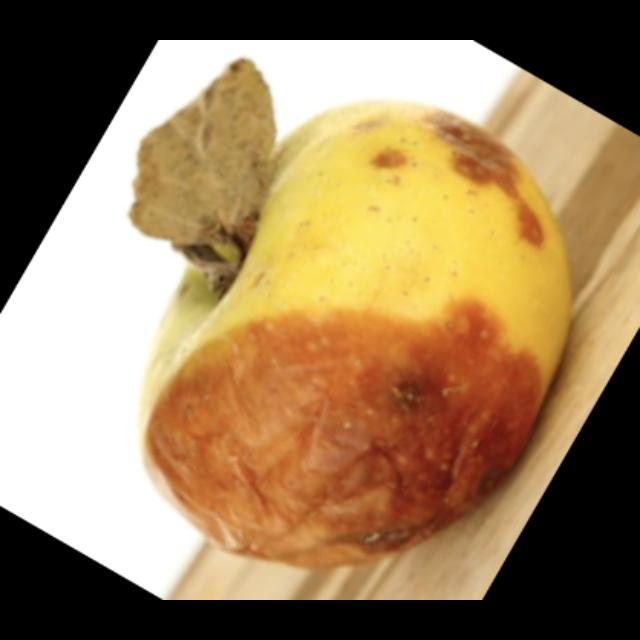Apel Tidak Segar: (94, 51, 566, 572)
